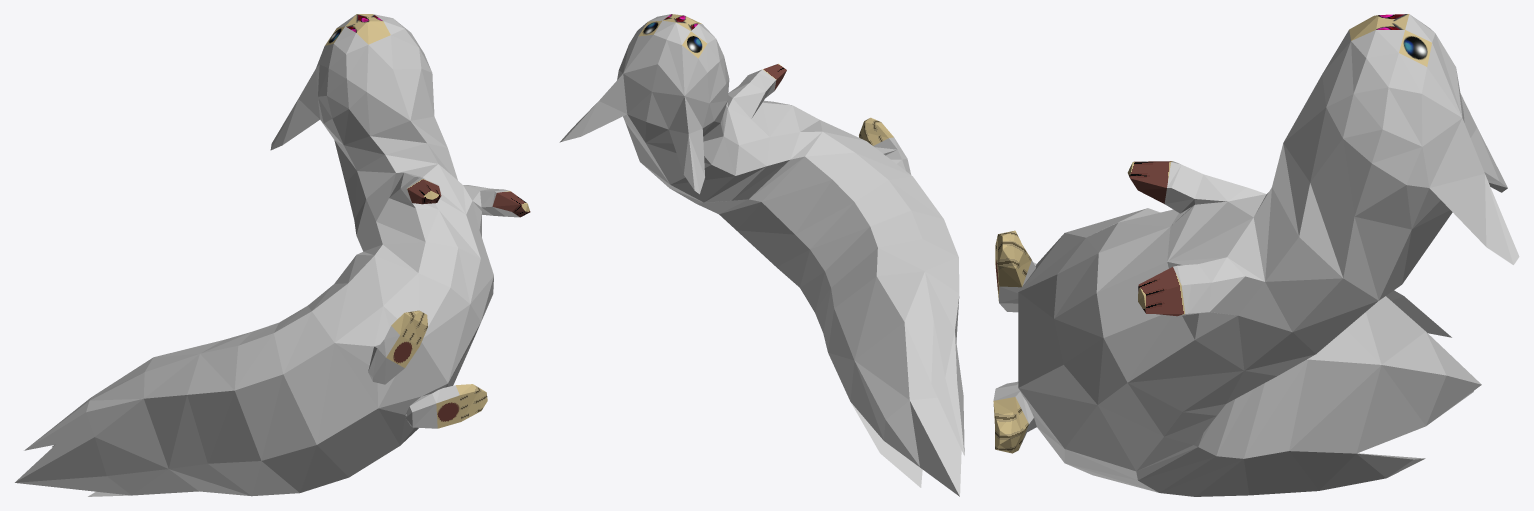
Rendered from BR_Furret.obj.
3 renders of one model, left to right at view 1: azimuth 30°, elevation 25°; view 2: azimuth 150°, elevation 25°; view 3: azimuth 270°, elevation 25°, orthographic. The views are drawn at different scales.
Visible parts, largest first — view 1: ootachi; view 2: ootachi; view 3: ootachi.
Part boxes in pixels (x1,y1,x2,y2): ootachi: [15, 14, 530, 496]; ootachi: [559, 14, 964, 496]; ootachi: [993, 14, 1519, 496].
Bounding box in the file's own units: 9.63 × 9.5 × 7.09.
